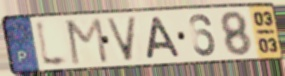6: (188, 12, 218, 58)
8: (219, 9, 255, 57)
A: (145, 15, 183, 60)
L: (34, 18, 73, 70)
M: (65, 16, 111, 67)
V: (103, 16, 140, 63)
